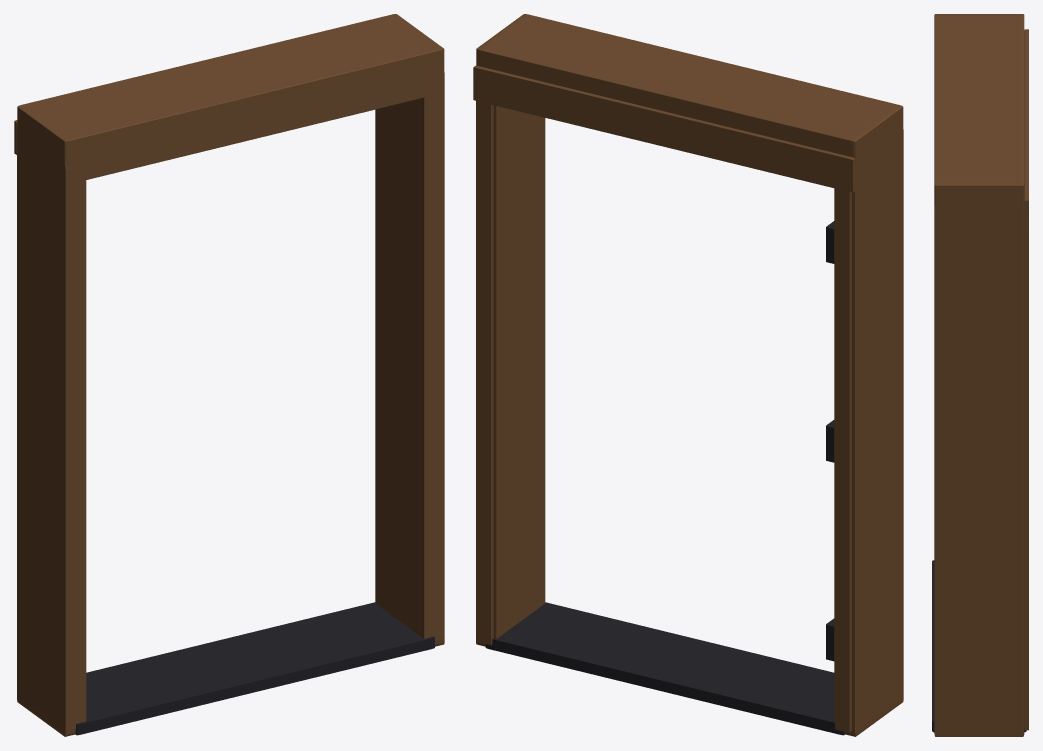
The model's file is door_frame.obj.
3 renders of one model, left to right at view 1: azimuth 30°, elevation 25°; view 2: azimuth 150°, elevation 25°; view 3: azimuth 270°, elevation 25°, orthographic. The views are drawn at different scales.
Visible parts, largest first — view 1: DoorFrame; view 2: DoorFrame; view 3: DoorFrame.
Boxes of the visible parts, x1=… form: DoorFrame: x1=14, y1=14, x2=444, y2=736; DoorFrame: x1=473, y1=14, x2=903, y2=736; DoorFrame: x1=932, y1=14, x2=1028, y2=736.
Size of the model in its own units: 1.8 by 2.7 by 0.43.
